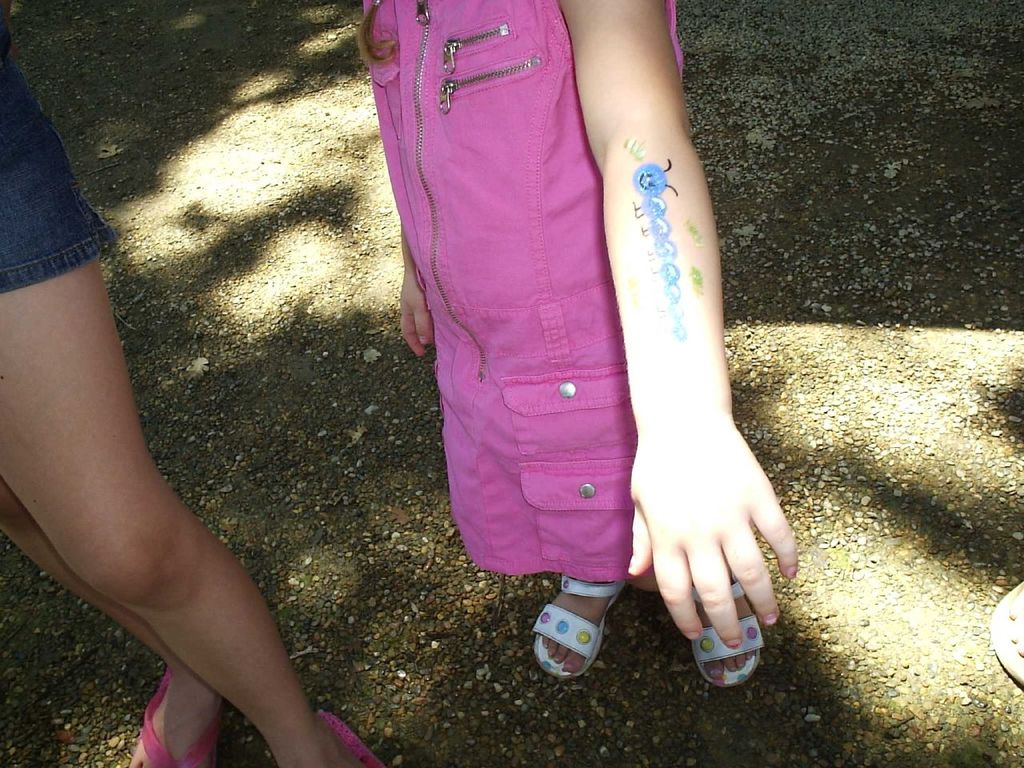Human_hand: (646, 422, 790, 699), (398, 270, 438, 362)
